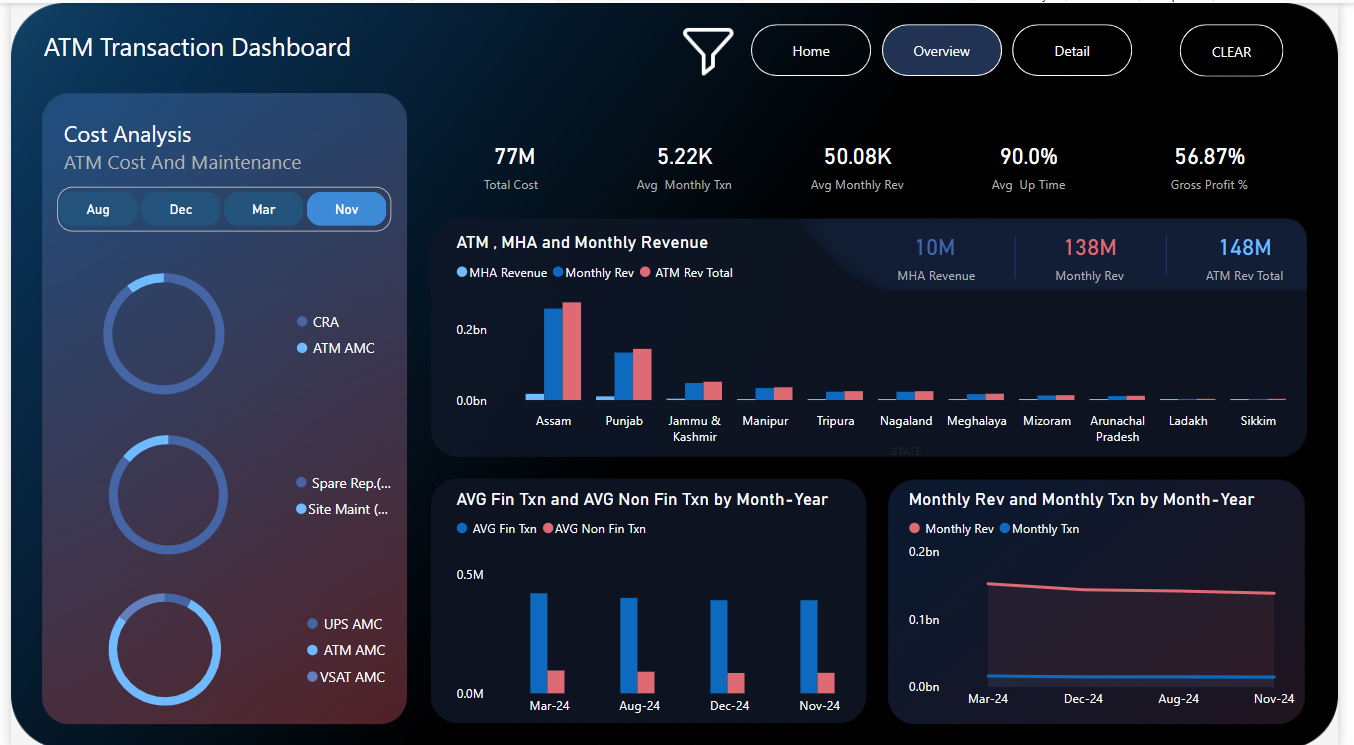

Layout of this report page (visuals, bound fields, positions):
{"tool":"powerbi","page":{"name":"Overview","canvas":[1280,720],"ordinal":1},"visuals":[{"type":"donutChart","fields":{"Y":["Sum(Dataset.CRA)","Sum(Dataset.ATM AMC)"]},"box":[16.2,241.2,349,156.3],"z":0},{"type":"donutChart","fields":{"Y":["Sum(Dataset.Spare Rep.(UPS))","Sum(Dataset.Site Maint (Non Asset))"]},"box":[25.6,397.6,358.5,153.6],"z":1000},{"type":"donutChart","fields":{"Y":["Sum(Dataset.UPS AMC)","Sum(Dataset.ATM AMC)","Sum(Dataset.VSAT AMC)"]},"box":[6.7,551.2,367.9,145.5],"z":2000},{"type":"clusteredColumnChart","title":"ATM , MHA and Monthly Revenue","fields":{"Y":["Sum(Dataset.MHA Revenue)","Sum(Dataset.Monthly Rev)","Sum(Dataset.ATM Rev Total)"],"Category":["Dataset.STATE"]},"box":[424.5,220.9,839.1,223.4],"z":3000},{"type":"clusteredColumnChart","fields":{"Y":["Sum(Dataset.AVG Fin Txn)","Sum(Dataset.AVG Non Fin Txn)"],"Category":["Dataset.Month-Year"]},"box":[424.5,468,414.6,228.4],"z":4000},{"type":"areaChart","fields":{"Category":["Dataset.Month-Year"],"Y":["Sum(Dataset.Monthly Rev)","Sum(Dataset.Monthly Txn)"]},"box":[861.5,468,399.7,222.2],"z":5000},{"type":"advancedSlicerVisual","fields":{"Values":["Dataset.Short_Month"]},"box":[44.6,177.3,322.1,43.4],"z":6000},{"type":"textbox","box":[27,20.2,328.8,51.2],"z":7000},{"type":"card","fields":{"Values":["Avg(Dataset.Monthly Txn)"]},"box":[566,110.5,168.5,88.9],"z":8000},{"type":"card","fields":{"Values":["Avg(Dataset.Monthly Rev)"]},"box":[734.5,110.5,164.4,88.9],"z":9000},{"type":"card","fields":{"Values":["Avg(Dataset.Up Time)"]},"box":[898.9,110.5,167.1,88.9],"z":10000},{"type":"card","fields":{"Values":["Dataset.Gross Profit Percentage"]},"box":[1066,110.5,180.6,88.9],"z":11000},{"type":"card","fields":{"Values":["Sum(Dataset. Total Cost  )"]},"box":[407,110.5,159,88.9],"z":12000},{"type":"card","fields":{"Values":["Sum(Dataset.MHA Revenue)"]},"box":[816.7,199.5,149.6,88.9],"z":13000},{"type":"card","fields":{"Values":["Sum(Dataset.Monthly Rev)"]},"box":[966.3,199.5,149.6,88.9],"z":14000},{"type":"card","fields":{"Values":["Sum(Dataset.ATM Rev Total)"]},"box":[1115.9,199.5,149.6,88.9],"z":15000},{"type":"textbox","box":[46.4,105.7,328.8,80.9],"z":16000},{"type":"pageNavigator","box":[714.2,20.5,369.2,50.7],"z":17000},{"type":"image","box":[639.4,12.1,67.6,67.6],"z":19000},{"type":"actionButton","box":[1128,20.5,100.1,50.7],"z":20000}]}

Visuals, with their boxes in screenshot pixels (x1, y1, x2, y2), scaled from the page's 1280x720 canvas onto the 1354x745 screenshot:
donutChart - Sum(Dataset.CRA) x Sum(Dataset.ATM AMC): x1=17, y1=250, x2=386, y2=411
donutChart - Sum(Dataset.Spare Rep.(UPS)) x Sum(Dataset.Site Maint (Non Asset)): x1=27, y1=411, x2=406, y2=570
donutChart - Sum(Dataset.UPS AMC) x Sum(Dataset.ATM AMC): x1=7, y1=570, x2=396, y2=721
"ATM , MHA and Monthly Revenue" clusteredColumnChart: x1=449, y1=229, x2=1337, y2=460
clusteredColumnChart - Sum(Dataset.AVG Fin Txn) x Sum(Dataset.AVG Non Fin Txn): x1=449, y1=484, x2=888, y2=721
areaChart - Dataset.Month-Year x Sum(Dataset.Monthly Rev): x1=911, y1=484, x2=1334, y2=714
advancedSlicerVisual - Dataset.Short_Month: x1=47, y1=183, x2=388, y2=228
textbox: x1=29, y1=21, x2=376, y2=74
card - Avg(Dataset.Monthly Txn): x1=599, y1=114, x2=777, y2=206
card - Avg(Dataset.Monthly Rev): x1=777, y1=114, x2=951, y2=206
card - Avg(Dataset.Up Time): x1=951, y1=114, x2=1128, y2=206
card - Dataset.Gross Profit Percentage: x1=1128, y1=114, x2=1319, y2=206
card - Sum(Dataset. Total Cost  ): x1=431, y1=114, x2=599, y2=206
card - Sum(Dataset.MHA Revenue): x1=864, y1=206, x2=1022, y2=298
card - Sum(Dataset.Monthly Rev): x1=1022, y1=206, x2=1180, y2=298
card - Sum(Dataset.ATM Rev Total): x1=1180, y1=206, x2=1339, y2=298
textbox: x1=49, y1=109, x2=397, y2=193
pageNavigator: x1=755, y1=21, x2=1146, y2=74
image: x1=676, y1=13, x2=748, y2=82
actionButton: x1=1193, y1=21, x2=1299, y2=74
